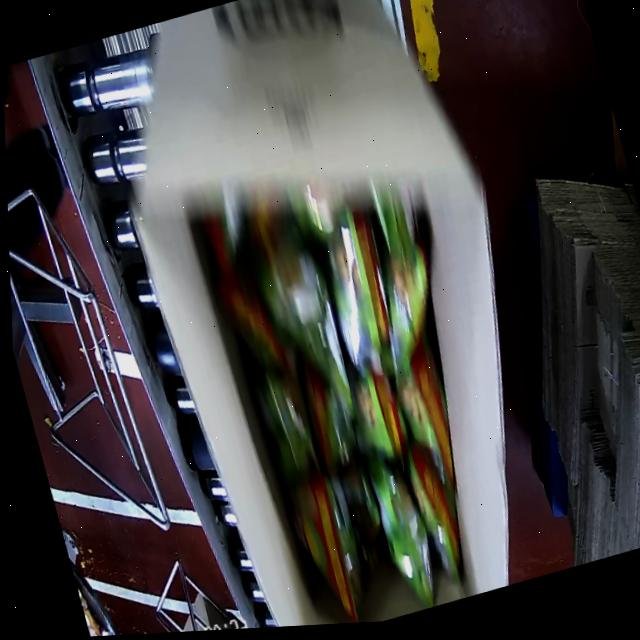YOGURT_HERB: (203, 199, 503, 626)
